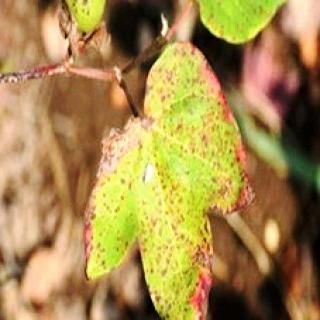leaf spot: (82, 41, 262, 320), (6, 55, 68, 103)
